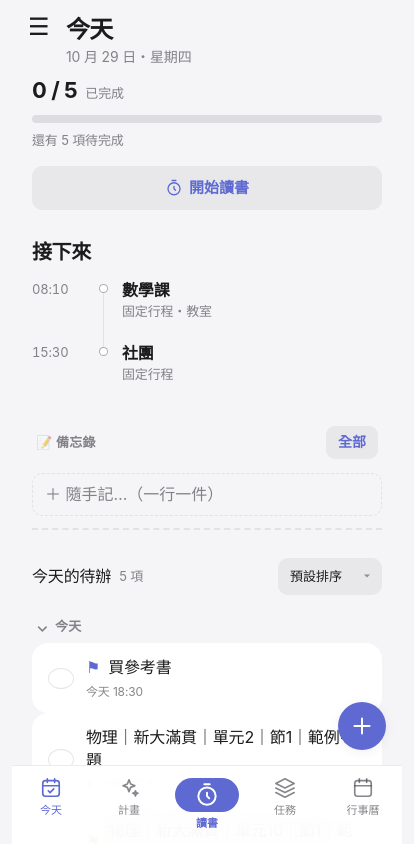
Test: 部分 API 失敗 › /tasks 失敗但 /plans 成功：reload 回報失敗，同時成功的 /plans 仍然套用
expect the heading "今天" is shown: met, box left=66, top=15, right=113, bottom=44
expect the text "買參考書" is shown: met, box left=108, top=657, right=172, bottom=677
Click the button "任務".
click(285, 805)  # box left=246, top=766, right=324, bottom=843
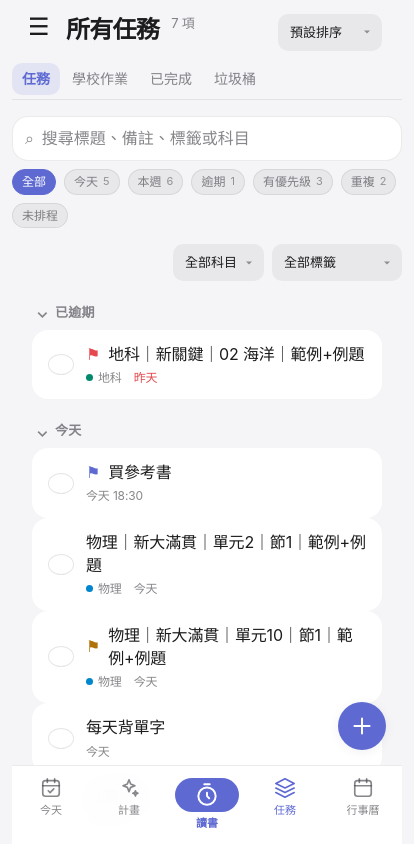
Click the checkbox named "完成「買參考書」".
click(61, 483)  # box left=48, top=472, right=74, bottom=494
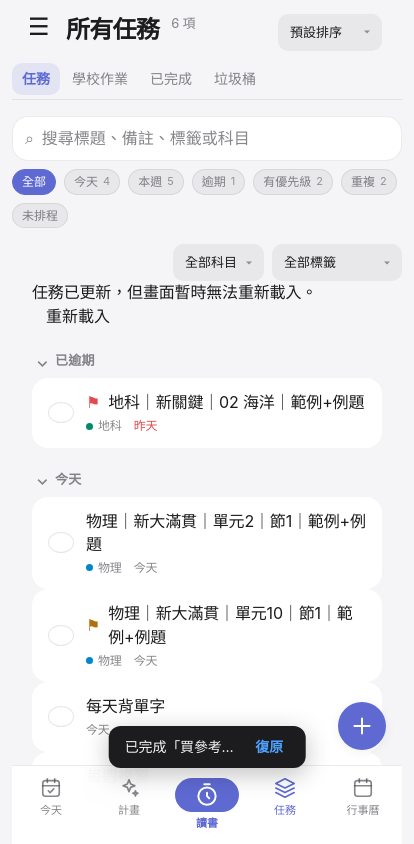
expect the text "任務已更新，但畫面暫時無法重新載入。 重新載入" is shown: met, box left=32, top=282, right=317, bottom=329
Click the button "計畫".
click(129, 805)  # box left=90, top=766, right=168, bottom=843
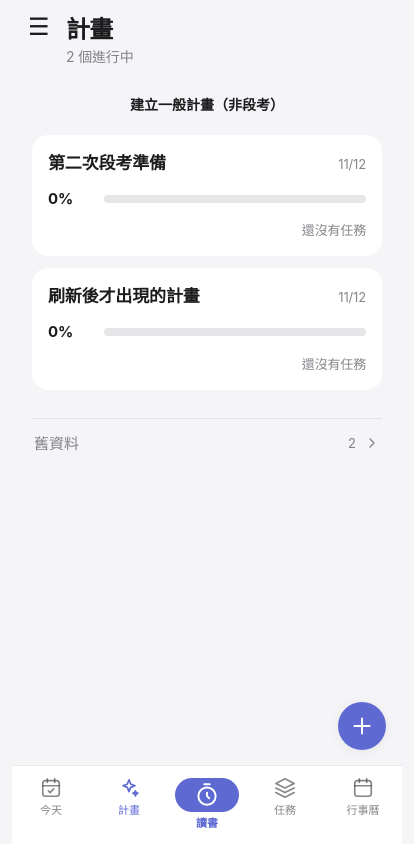
expect the text "刷新後才出現的計畫" is shown: met, box left=48, top=284, right=200, bottom=309
